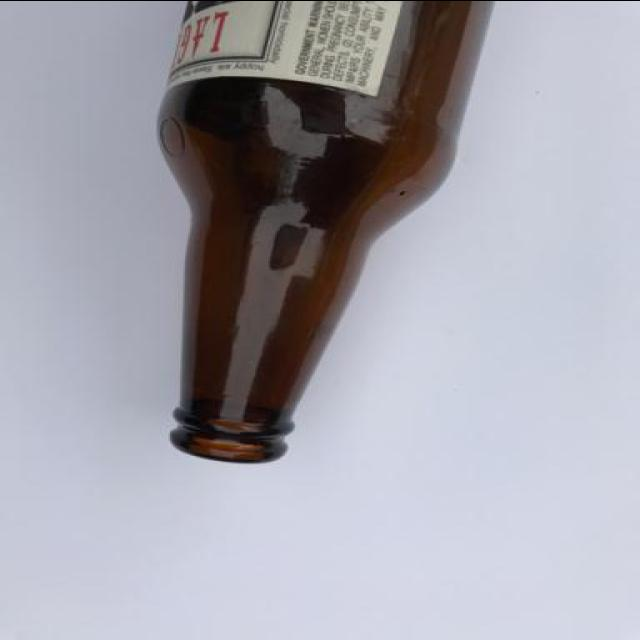litter: (154, 1, 498, 465)
